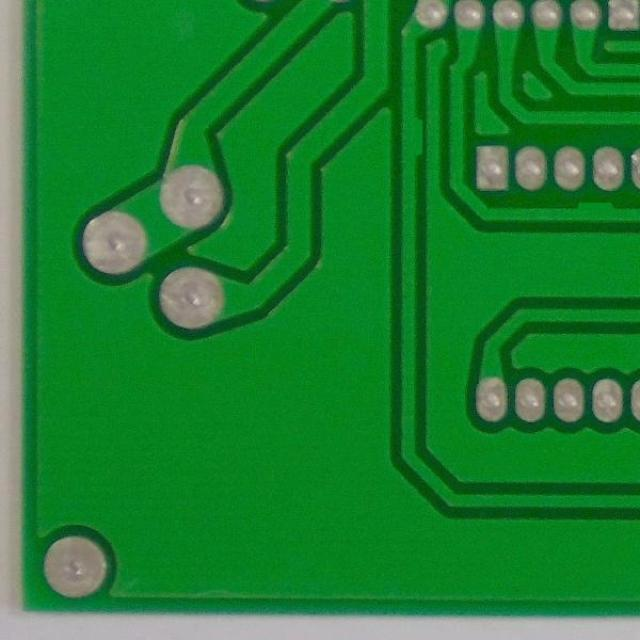spur: (396, 109, 430, 163), (570, 197, 620, 223)
